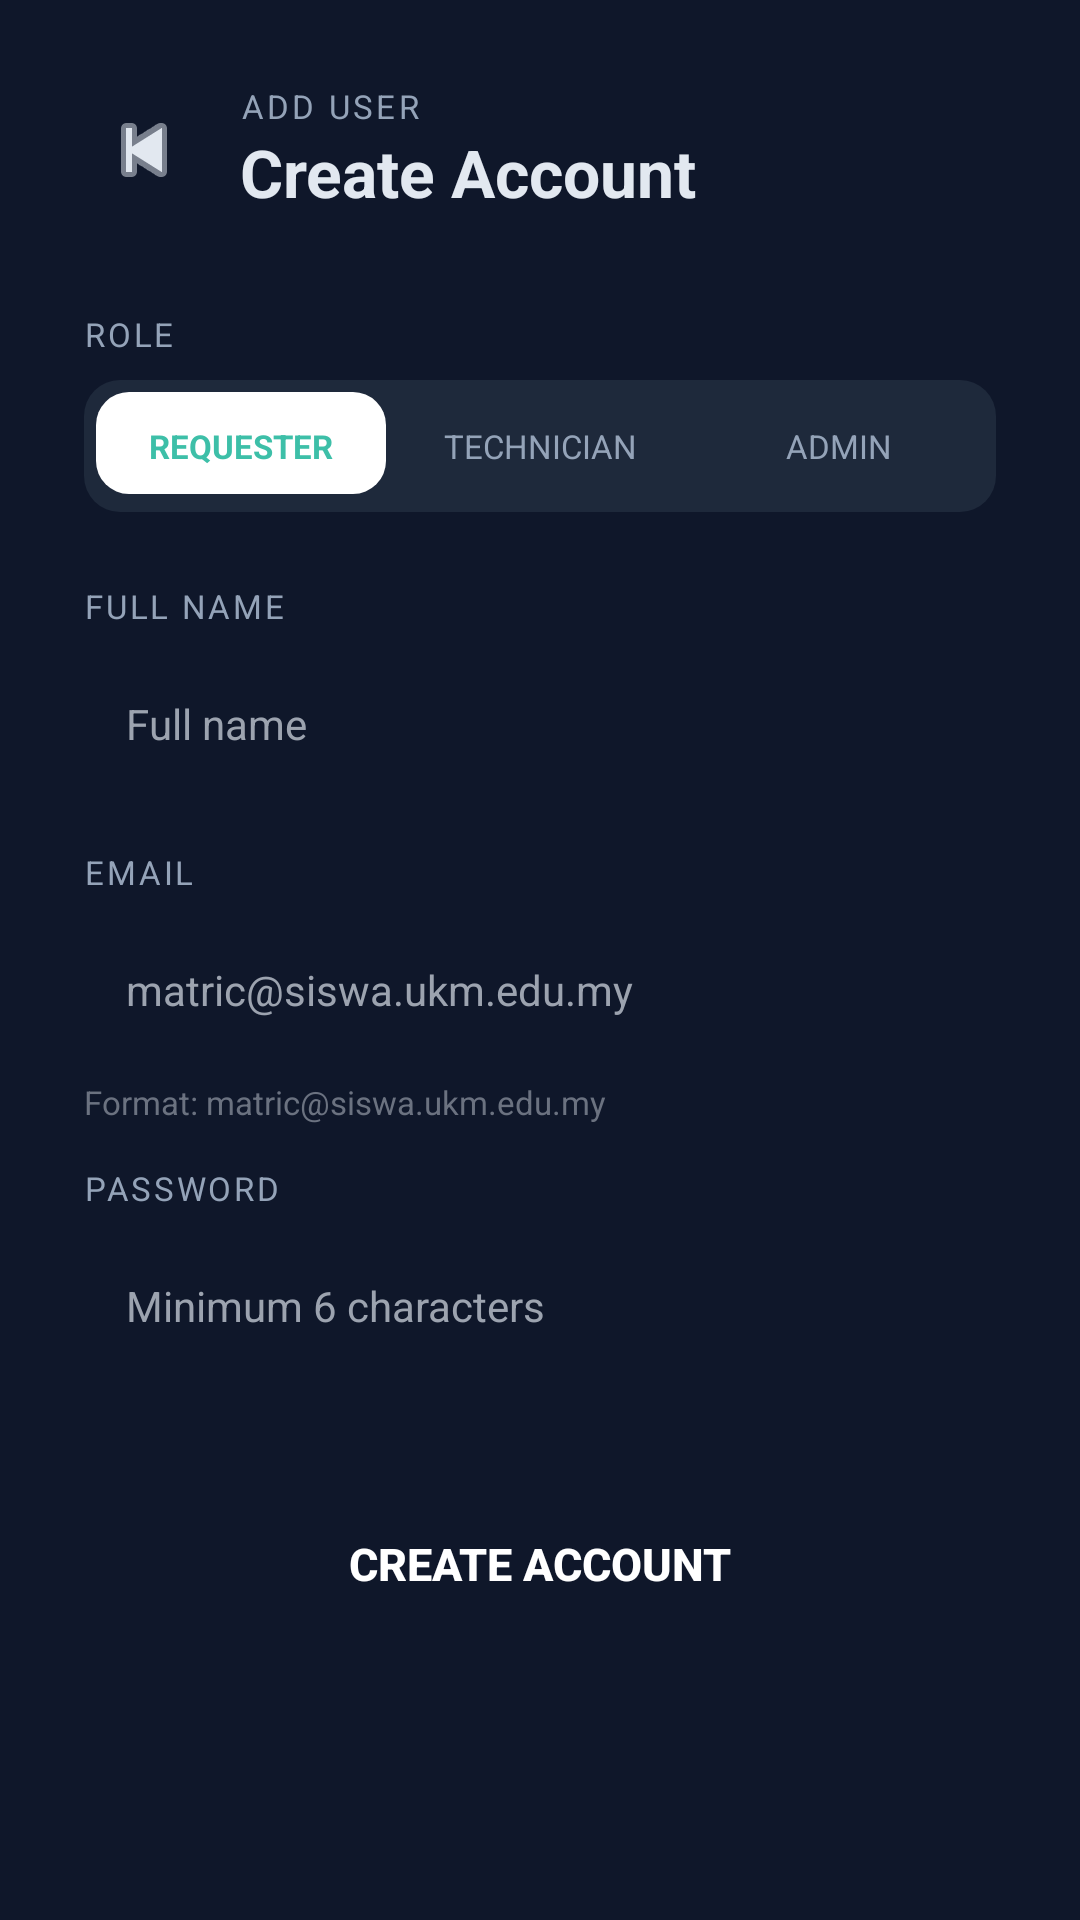

Named icons in this screenshot (1080px×1920px) and their centers, (x=x, y=y):
Back: (x=144, y=150)
